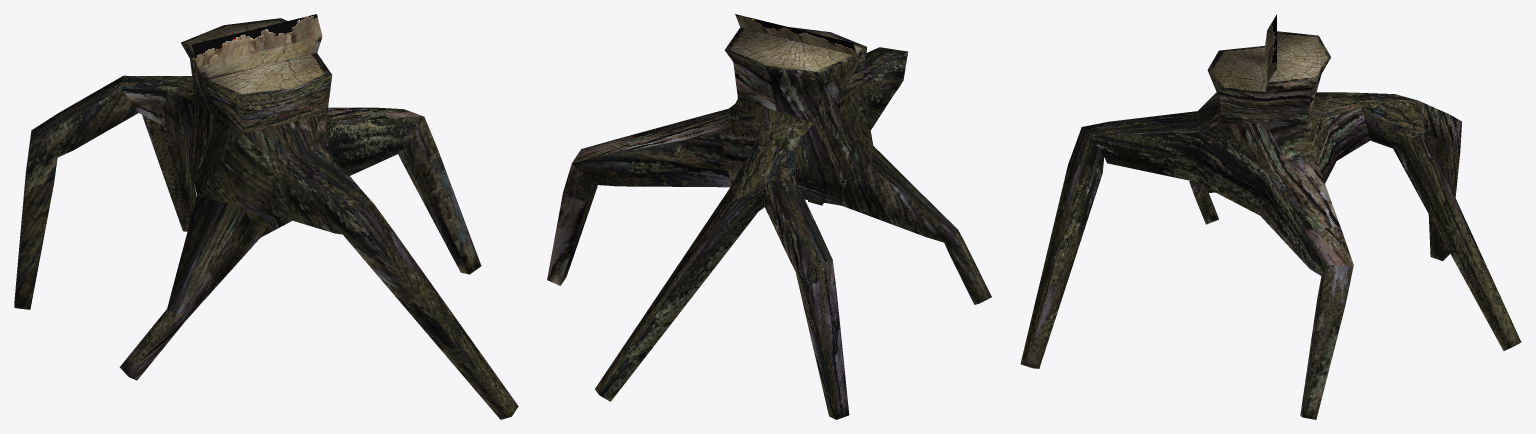
The model's file is tree_p.glb.
3 views of the same model, side by side, from view 1: azimuth 30°, elevation 25°; view 2: azimuth 150°, elevation 25°; view 3: azimuth 270°, elevation 25° (orthographic). The views are drawn at different scales.
Visible parts, largest first — view 1: tree_p, tree_p.001; view 2: tree_p, tree_p.001; view 3: tree_p, tree_p.001.
Part boxes in pixels (bbox=[...]): tree_p: bbox=[14, 18, 518, 419]; tree_p.001: bbox=[192, 14, 322, 66]; tree_p: bbox=[547, 27, 991, 419]; tree_p.001: bbox=[735, 14, 857, 55]; tree_p: bbox=[1020, 31, 1521, 419]; tree_p.001: bbox=[1267, 14, 1276, 83].
Size of the model in its own units: 3 by 2.2 by 3.57.
1 material, 1 textured.
